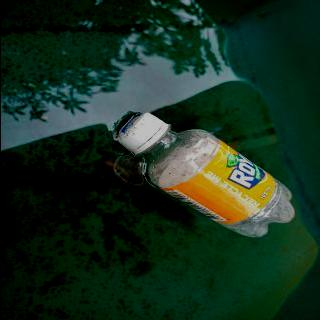bottle: (110, 110, 296, 238)
